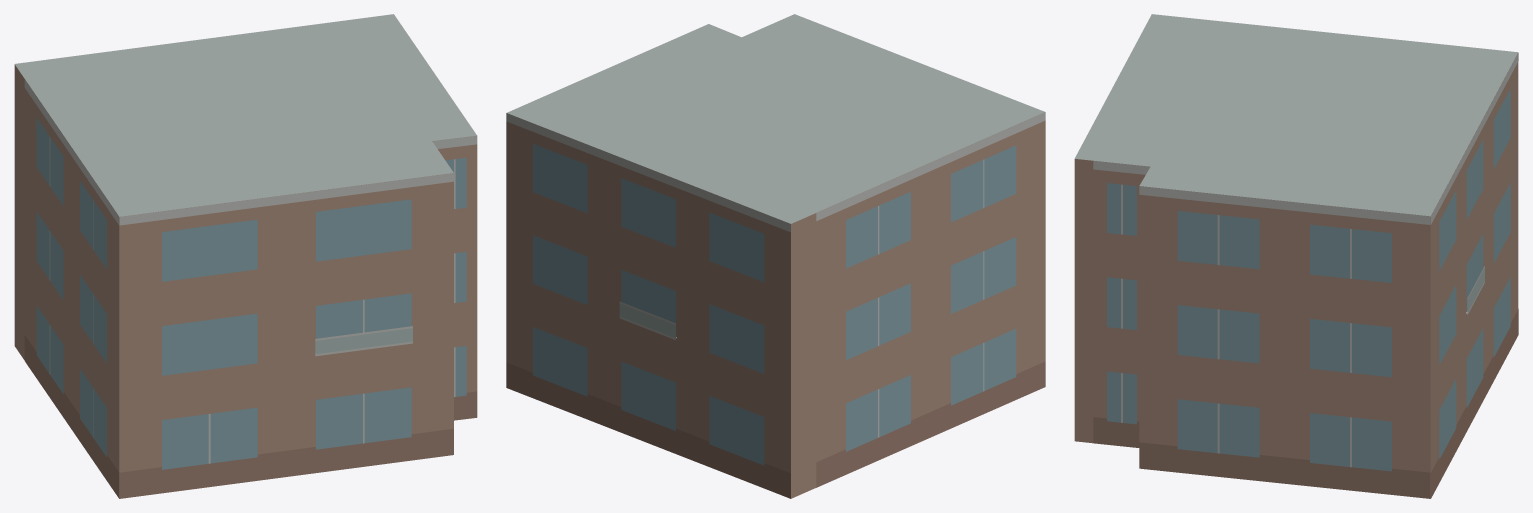
The model's file is survey-upis-32481638.glb.
3 views of the same model, side by side, from view 1: azimuth 30°, elevation 25°; view 2: azimuth 150°, elevation 25°; view 3: azimuth 270°, elevation 25° (orthographic). The views are drawn at different scales.
Parts seen in each view (by area): view 1: survey-upis-32481638.tmp; view 2: survey-upis-32481638.tmp; view 3: survey-upis-32481638.tmp.
Part boxes in pixels (bbox=[...]): survey-upis-32481638.tmp: bbox=[14, 14, 477, 498]; survey-upis-32481638.tmp: bbox=[506, 14, 1045, 498]; survey-upis-32481638.tmp: bbox=[1074, 14, 1518, 498].
Bounding box in the file's own units: 12.14 × 7.9 × 11.26.
